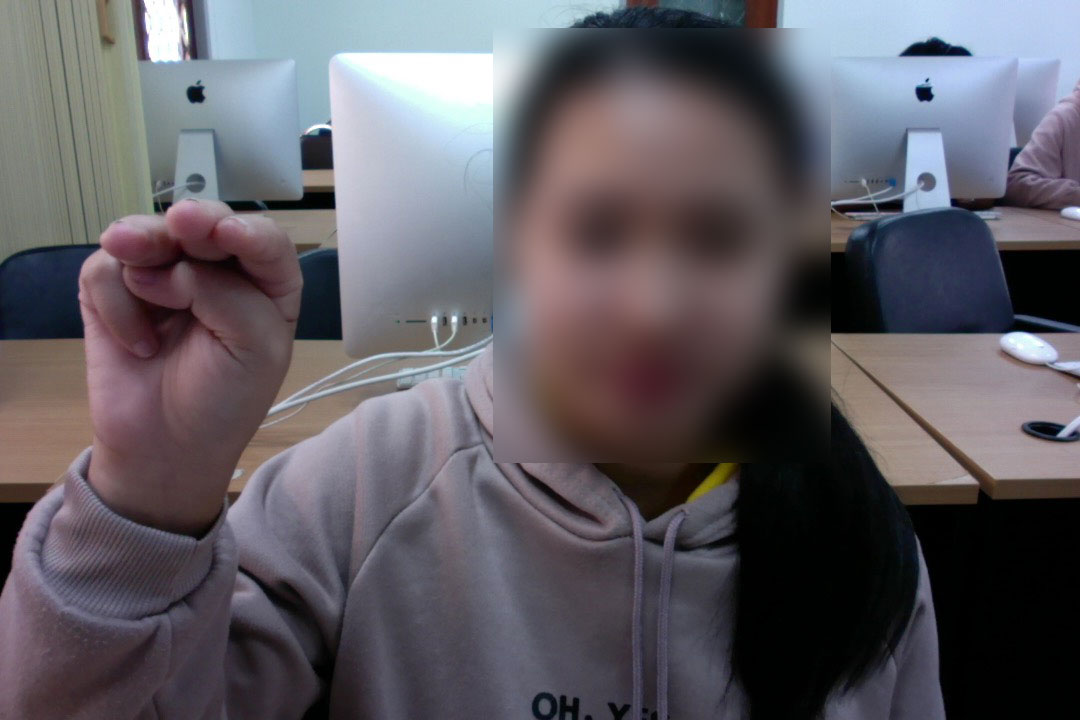mor: (65, 191, 317, 487)
